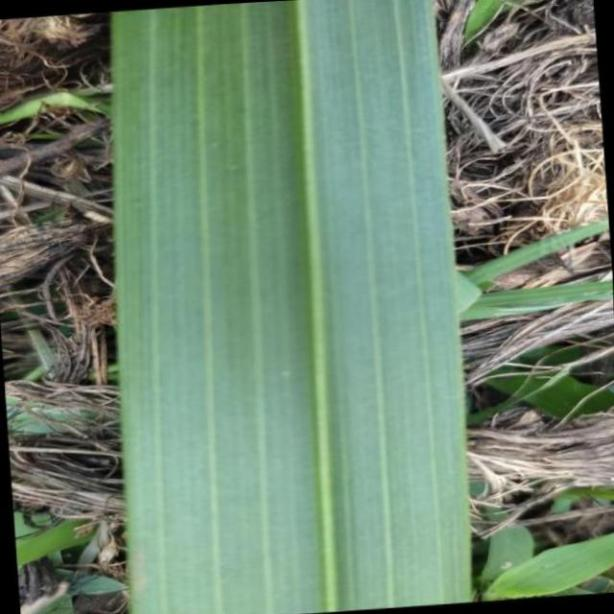Healthy: (113, 3, 475, 614)
